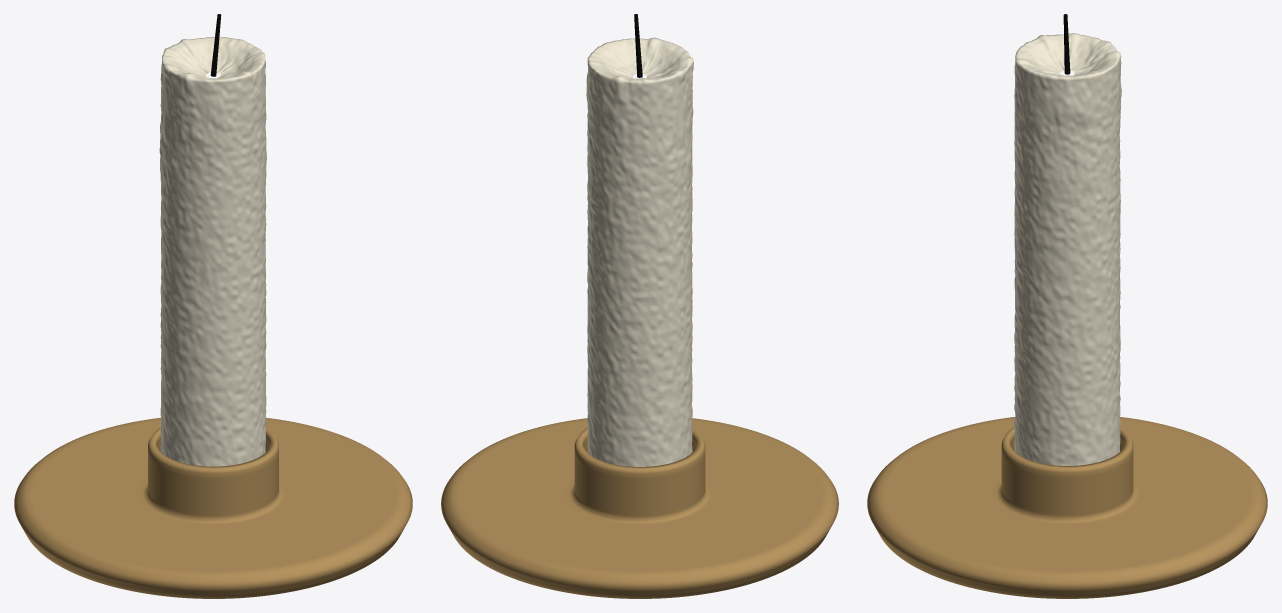
File: candle_L3.glb
3 renders of one model, left to right at view 1: azimuth 30°, elevation 25°; view 2: azimuth 150°, elevation 25°; view 3: azimuth 270°, elevation 25°, orthographic.
Parts seen in each view (by area): view 1: holder, wax; view 2: holder, wax; view 3: holder, wax.
Part boxes in pixels (x1=…): holder: x1=14, y1=417, x2=412, y2=598; wax: x1=159, y1=37, x2=266, y2=466; holder: x1=441, y1=418, x2=838, y2=598; wax: x1=586, y1=37, x2=693, y2=466; holder: x1=867, y1=417, x2=1267, y2=598; wax: x1=1014, y1=33, x2=1121, y2=465.
Size of the model in its own units: 0.0838 by 0.117 by 0.0838.
Materials: 3 (1 with a texture image).
